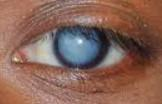eye: (54, 26, 109, 70)
